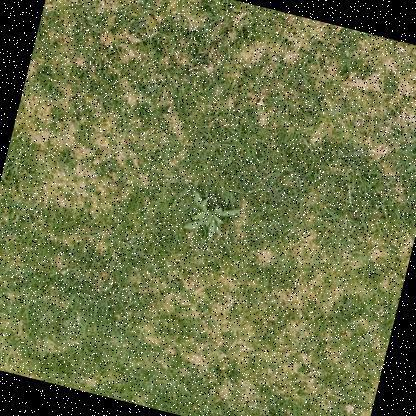Weeds: (180, 189, 244, 247)
